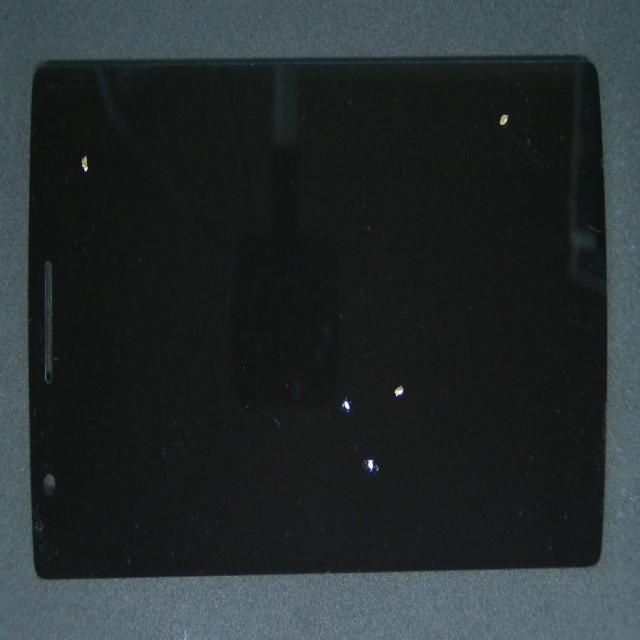stain: (133, 164, 487, 602), (202, 248, 574, 640), (216, 216, 608, 574), (273, 62, 640, 167), (56, 106, 144, 238)
